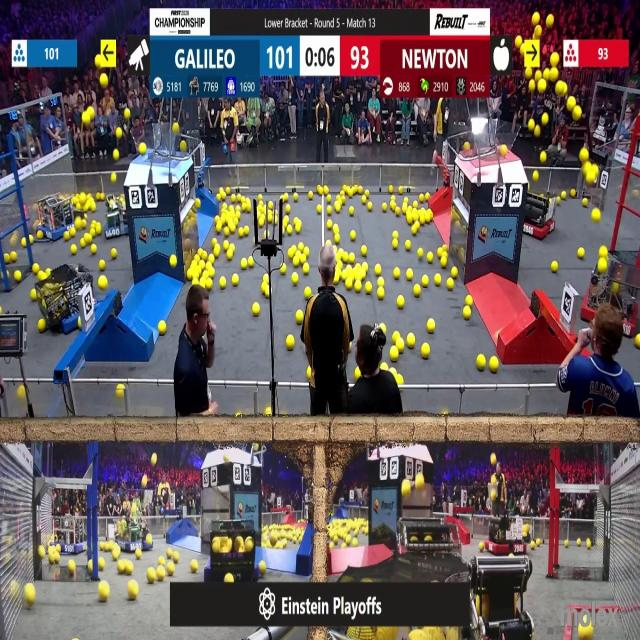ball_airborne: (586, 166, 597, 184), (400, 481, 410, 497), (556, 83, 567, 96), (581, 148, 590, 162), (416, 476, 425, 490), (572, 106, 581, 119), (567, 97, 575, 111), (598, 260, 606, 274), (100, 73, 108, 87), (552, 54, 560, 68), (550, 68, 558, 81), (88, 107, 96, 120), (81, 111, 89, 124), (593, 209, 601, 222), (538, 79, 546, 91), (139, 143, 147, 155), (540, 113, 548, 125), (545, 14, 553, 26), (532, 12, 540, 24), (542, 68, 550, 80), (115, 128, 122, 140), (151, 452, 158, 464), (499, 144, 506, 156), (532, 57, 539, 69), (529, 79, 536, 90), (539, 151, 546, 162), (534, 27, 541, 38), (123, 108, 129, 120), (528, 118, 534, 130), (515, 34, 521, 46), (180, 141, 186, 152), (534, 127, 540, 138), (96, 57, 102, 68), (110, 173, 116, 184), (526, 68, 532, 78), (534, 70, 540, 80), (600, 247, 606, 257), (113, 149, 119, 159), (142, 478, 148, 488), (173, 124, 179, 134), (520, 44, 526, 54), (491, 454, 496, 465), (491, 491, 497, 500), (464, 142, 469, 152), (491, 474, 496, 484)
ball_ground: (129, 583, 139, 601), (27, 586, 36, 606), (100, 584, 110, 602), (490, 357, 499, 371), (16, 384, 24, 399), (48, 552, 58, 564), (100, 276, 108, 290), (478, 355, 486, 369), (426, 319, 434, 333), (421, 345, 429, 359), (286, 337, 294, 351), (390, 347, 398, 361), (147, 568, 155, 582), (118, 561, 126, 575), (408, 336, 416, 349), (396, 295, 404, 308), (168, 562, 176, 575), (158, 567, 166, 580), (69, 560, 76, 574), (414, 284, 422, 296), (378, 287, 386, 299), (126, 562, 134, 574), (160, 321, 167, 334), (295, 311, 302, 324), (38, 319, 45, 332), (252, 304, 259, 317), (354, 281, 362, 292), (346, 279, 354, 290), (396, 342, 404, 353), (38, 548, 46, 559), (190, 560, 197, 572), (99, 558, 106, 570), (305, 287, 312, 299), (291, 274, 298, 286), (364, 282, 371, 294), (425, 210, 432, 222), (224, 573, 232, 583), (38, 272, 46, 282), (259, 561, 265, 574), (219, 278, 226, 289), (463, 308, 470, 319), (233, 275, 240, 286), (407, 270, 414, 281), (186, 270, 193, 281), (434, 275, 441, 286), (241, 260, 248, 271), (349, 252, 356, 263), (112, 549, 119, 560), (292, 258, 299, 269), (552, 262, 558, 274), (265, 285, 271, 297), (380, 362, 388, 371), (577, 248, 584, 258), (393, 269, 400, 279), (13, 272, 20, 282), (206, 280, 213, 290), (160, 556, 167, 566), (396, 376, 403, 386), (173, 553, 180, 563), (200, 250, 207, 260), (376, 266, 382, 277), (304, 265, 310, 276), (111, 248, 117, 259), (354, 367, 360, 378), (412, 223, 418, 234), (171, 255, 177, 266), (422, 276, 428, 287), (31, 289, 37, 300), (452, 268, 458, 279), (214, 246, 220, 257), (343, 252, 349, 263), (420, 213, 426, 224), (92, 202, 98, 213), (76, 217, 82, 228), (301, 254, 309, 262), (344, 574, 352, 582), (36, 233, 44, 241), (378, 278, 385, 287), (359, 271, 366, 280), (230, 223, 237, 232), (285, 205, 292, 214), (346, 265, 353, 274), (92, 244, 98, 254), (465, 295, 471, 305), (100, 262, 106, 272), (226, 250, 232, 260), (448, 279, 454, 289), (427, 252, 433, 262), (32, 265, 38, 275), (136, 550, 142, 560), (248, 256, 253, 268), (406, 238, 412, 248), (244, 225, 250, 235), (335, 235, 341, 245), (442, 257, 448, 267), (222, 241, 228, 251), (287, 248, 293, 258), (294, 222, 300, 232), (4, 253, 10, 263), (208, 269, 214, 279), (238, 229, 244, 239), (336, 204, 342, 214), (222, 225, 228, 235), (269, 213, 275, 223), (392, 333, 398, 343), (336, 272, 342, 282), (258, 218, 265, 226), (316, 206, 323, 214), (100, 541, 107, 549), (200, 262, 207, 270), (334, 224, 341, 232), (408, 213, 413, 224), (350, 232, 356, 241), (264, 275, 270, 284), (418, 248, 424, 257), (10, 252, 16, 261), (570, 188, 576, 197), (65, 232, 71, 241), (326, 207, 332, 216), (80, 239, 86, 248), (200, 279, 206, 288), (381, 323, 387, 332), (283, 216, 289, 225), (583, 199, 589, 208), (23, 238, 29, 247), (275, 215, 281, 224), (400, 205, 406, 214), (28, 237, 34, 246), (636, 336, 640, 349), (71, 245, 76, 255), (361, 246, 366, 256), (392, 240, 397, 250), (287, 224, 292, 234), (97, 224, 102, 234), (197, 201, 202, 211), (106, 540, 111, 550), (208, 255, 215, 262), (348, 207, 354, 215), (395, 208, 401, 216), (70, 230, 76, 238), (191, 278, 197, 286), (326, 220, 332, 228), (269, 202, 275, 210), (325, 239, 331, 247), (267, 410, 273, 418), (360, 197, 366, 205), (352, 538, 358, 546), (382, 204, 388, 212), (413, 202, 419, 210), (530, 540, 536, 548), (348, 189, 354, 197), (355, 264, 361, 272), (366, 203, 371, 212), (305, 247, 310, 256), (587, 539, 592, 548), (308, 366, 312, 377), (328, 197, 334, 204), (212, 239, 218, 246), (97, 192, 103, 199), (388, 185, 394, 192), (392, 232, 397, 240), (309, 190, 314, 198), (362, 264, 367, 272), (90, 560, 94, 570), (420, 193, 425, 201), (561, 190, 566, 198), (216, 223, 221, 231), (283, 192, 288, 200), (480, 542, 485, 550), (297, 243, 302, 251), (232, 193, 237, 201), (237, 210, 242, 218), (338, 263, 343, 271), (564, 539, 569, 547), (348, 343, 353, 351), (341, 197, 346, 205), (398, 186, 403, 194), (282, 267, 286, 276), (168, 551, 172, 560), (390, 194, 396, 200), (443, 412, 449, 418), (257, 193, 262, 200), (425, 192, 429, 200), (216, 192, 220, 200), (576, 538, 580, 546), (557, 198, 561, 206), (536, 538, 540, 546), (293, 196, 297, 203), (0, 308, 4, 315), (364, 528, 368, 535)
goal: (123, 124, 187, 159), (467, 122, 520, 158)
robot_blue: (39, 266, 95, 334), (33, 192, 75, 240), (116, 517, 152, 553), (54, 516, 88, 554), (104, 195, 129, 238)
robot_red: (587, 276, 640, 336), (487, 515, 532, 555), (522, 190, 555, 239)
